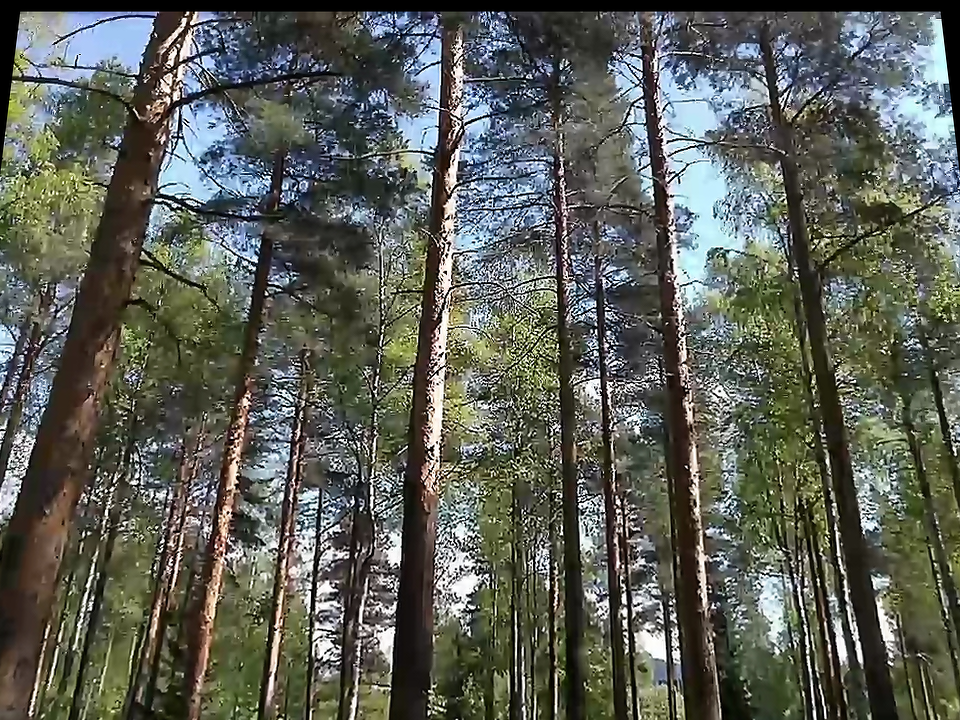branch: (830, 184, 935, 272), (189, 61, 321, 113), (160, 182, 290, 228), (13, 66, 131, 112), (146, 245, 228, 306), (672, 120, 779, 166), (49, 6, 161, 47), (314, 140, 427, 167), (467, 67, 547, 96), (461, 193, 539, 218), (448, 314, 503, 345), (452, 273, 504, 294)
trunk: (756, 79, 909, 709), (622, 48, 748, 713), (388, 45, 481, 715), (4, 242, 93, 713), (545, 250, 596, 715), (330, 418, 376, 717)
